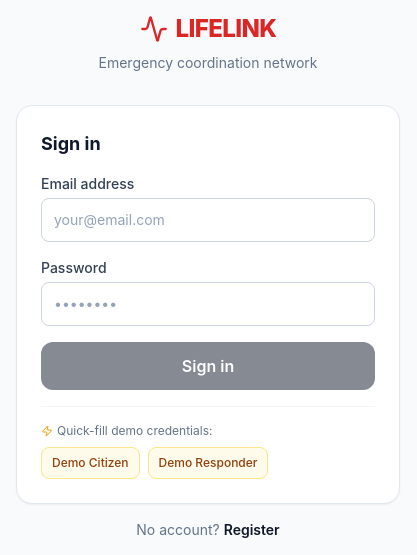
Test: LoginPage › fills email on Demo Citizen click
Click the button "Demo Citizen".
click(90, 462)  # box [41, 446, 140, 478]
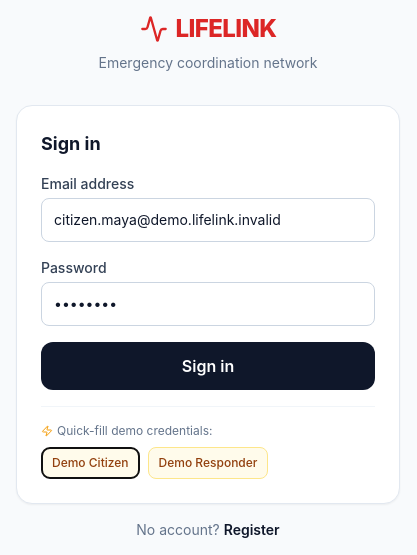
Expected: the field labelled "Email address" holds "citizen.maya@demo.lifelink.invalid", [41, 198, 375, 242]
